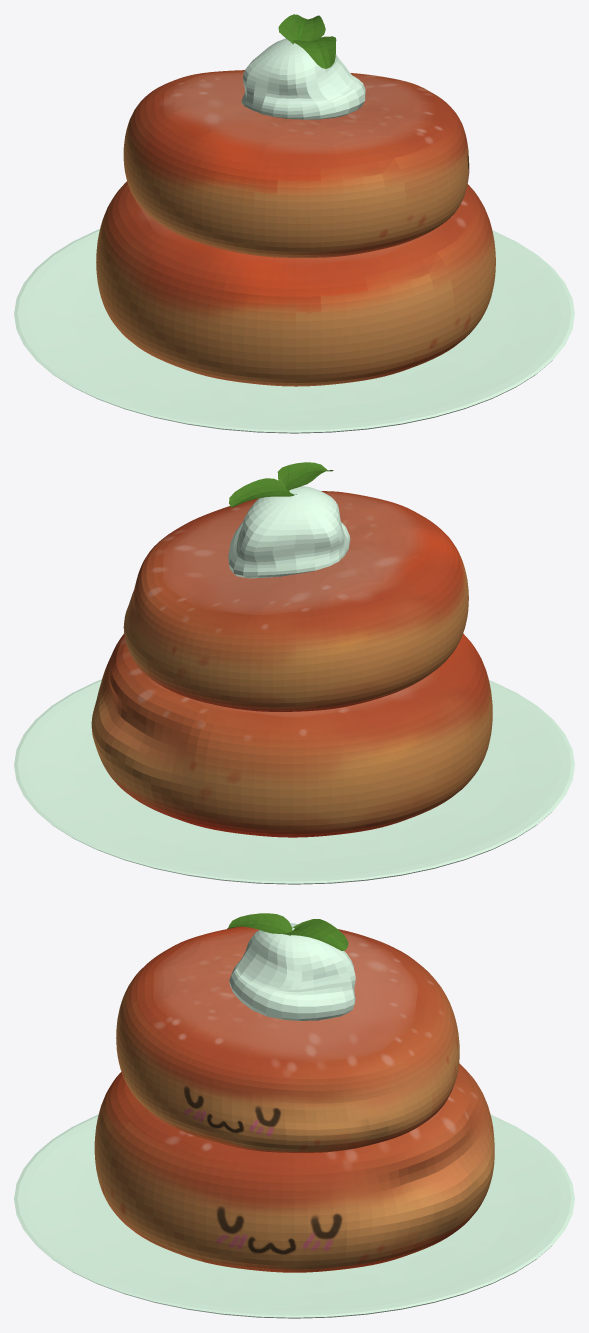
The model's file is pancake.glb.
The picture shows the model from 3 angles, top to bottom: view 1: azimuth 30°, elevation 25°; view 2: azimuth 150°, elevation 25°; view 3: azimuth 270°, elevation 25°; orthographic projection.
Parts seen in each view (by area): view 1: Object_2, Object_3, Object_5, Object_4; view 2: Object_2, Object_3, Object_5, Object_4; view 3: Object_2, Object_3, Object_5, Object_4.
Boxes of the visible parts, <box> form: Object_2: <box>96,70,495,386</box>; Object_3: <box>14,229,574,433</box>; Object_5: <box>241,38,365,119</box>; Object_4: <box>278,14,336,68</box>; Object_2: <box>91,491,492,837</box>; Object_3: <box>14,679,574,884</box>; Object_5: <box>228,486,350,578</box>; Object_4: <box>229,462,333,507</box>; Object_2: <box>94,926,494,1272</box>; Object_3: <box>14,1114,574,1318</box>; Object_5: <box>229,923,355,1020</box>; Object_4: <box>227,913,348,950</box>.
Size of the model in its own units: 0.4313 by 0.2518 by 0.4313.
Materials: 4 (4 with a texture image).
